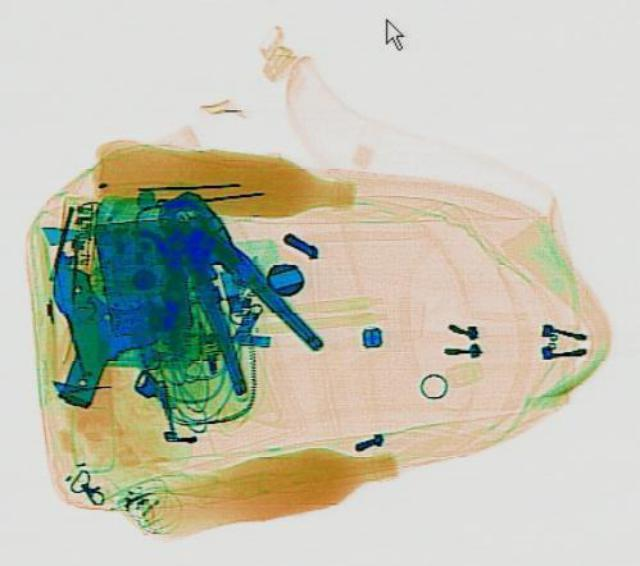Pliers: (122, 173, 334, 395)
